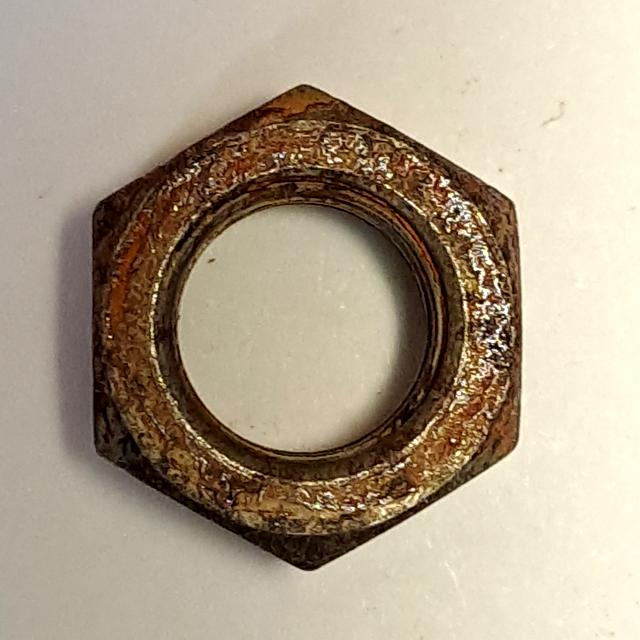Rust: (70, 64, 533, 584)
